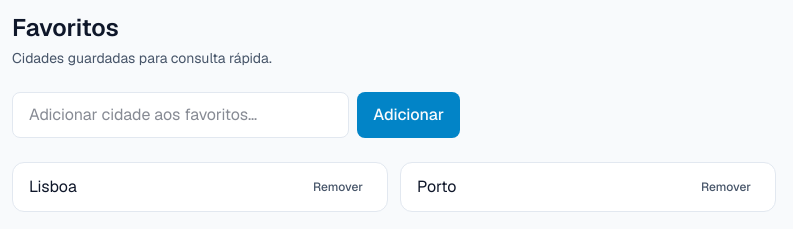
Test case: FavoritesView › removes a favorite when the remove button is clicked
Click the button with aria-label "Remover Lisboa".
click(338, 187)  # box [305,175,371,199]
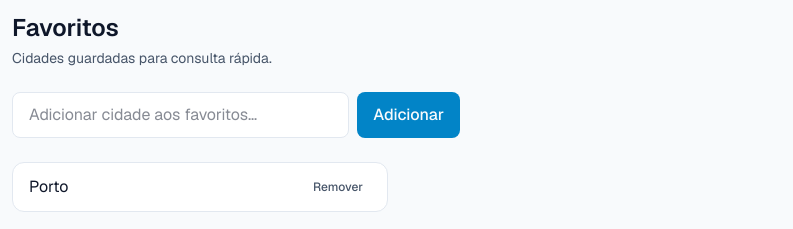
Check: the link "Porto" is shown, box [29,175,68,199]
Check: the link "Lisboa" is gone
